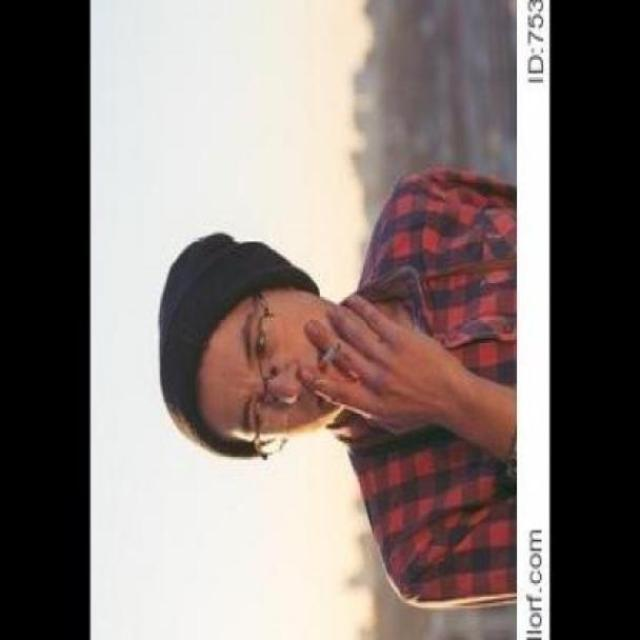rokok: (308, 338, 348, 384)
